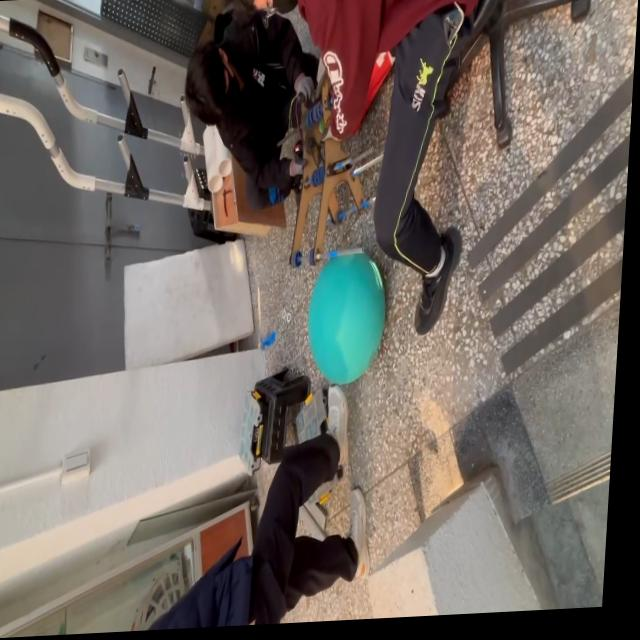ALGAE: (302, 246, 391, 389)
